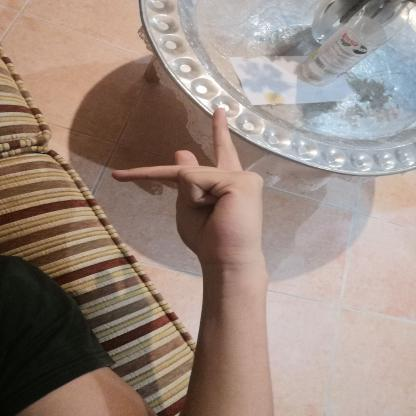DHAA: (96, 97, 276, 270)
